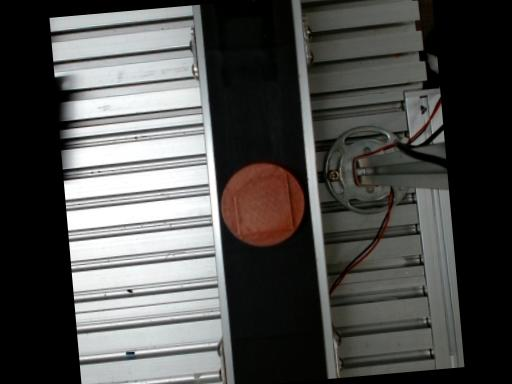Brown_Waper: (220, 165, 304, 246)
Not_Square: (231, 173, 293, 237)
